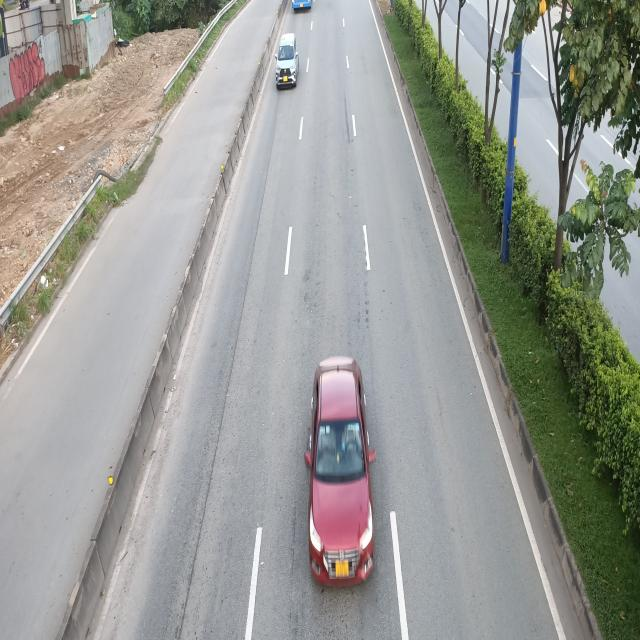car: (304, 361, 378, 592), (275, 34, 299, 90)
